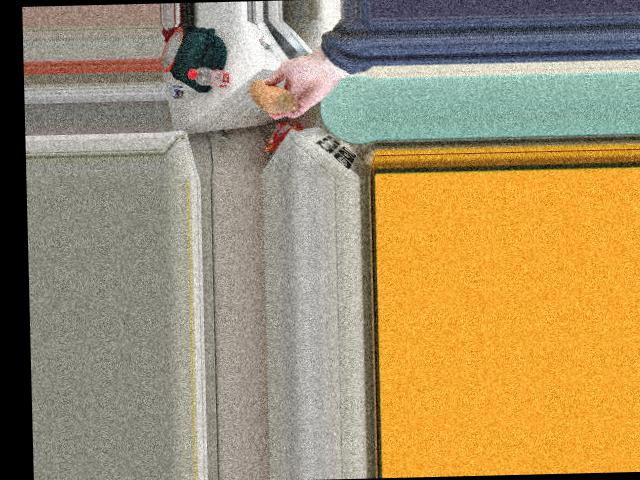sweet_potato: (250, 81, 291, 113)
